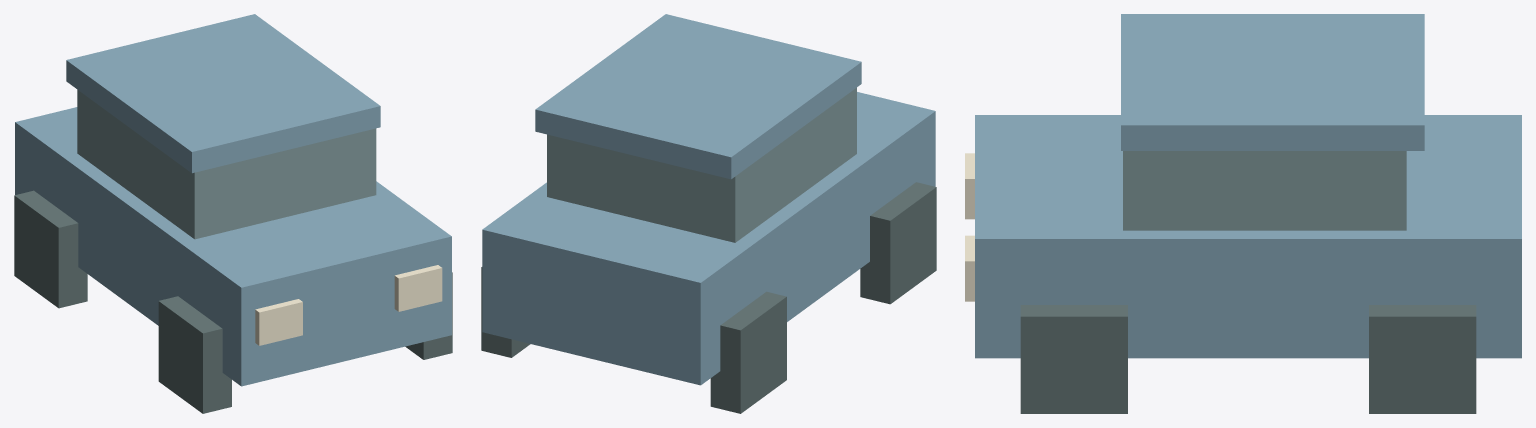
Rendered from car.glb.
3 renders of one model, left to right at view 1: azimuth 30°, elevation 25°; view 2: azimuth 150°, elevation 25°; view 3: azimuth 270°, elevation 25°, orthographic. The views are drawn at different scales.
Parts seen in each view (by area): view 1: world_blue.001, world_glass.003, world_black.003, world_cream.001; view 2: world_blue.001, world_glass.003, world_black.003; view 3: world_blue.001, world_black.003, world_glass.003, world_cream.001.
Part boxes in pixels (x1=…): world_blue.001: x1=15, y1=14, x2=451, y2=386; world_glass.003: x1=77, y1=89, x2=376, y2=239; world_black.003: x1=14, y1=190, x2=452, y2=413; world_cream.001: x1=255, y1=265, x2=442, y2=345; world_blue.001: x1=482, y1=14, x2=935, y2=385; world_glass.003: x1=547, y1=87, x2=856, y2=242; world_black.003: x1=481, y1=182, x2=936, y2=413; world_blue.001: x1=975, y1=14, x2=1521, y2=358; world_black.003: x1=1020, y1=305, x2=1476, y2=413; world_glass.003: x1=1123, y1=151, x2=1406, y2=230; world_cream.001: x1=965, y1=153, x2=974, y2=301.
Size of the model in its own units: 1.72 by 1.47 by 2.75.
